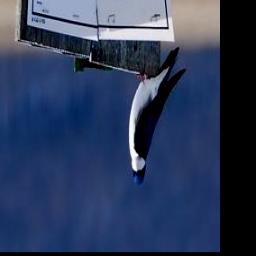Swallow: (127, 48, 185, 189)
